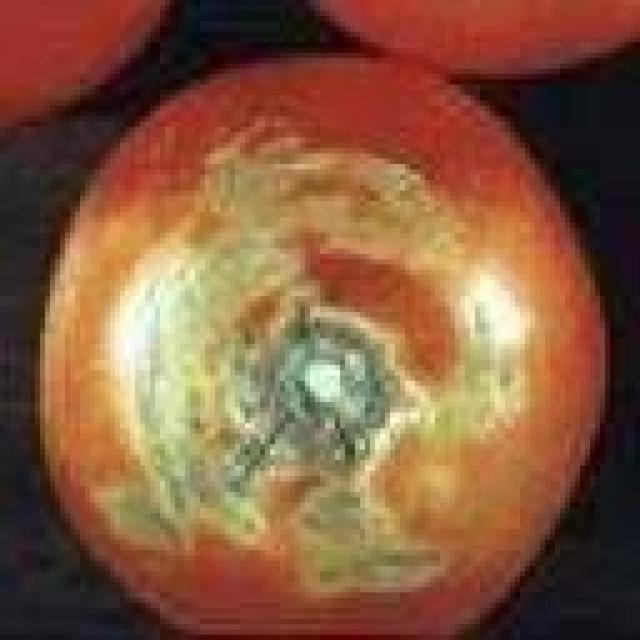Blossom End Rot Fruit: (167, 171, 257, 309)
